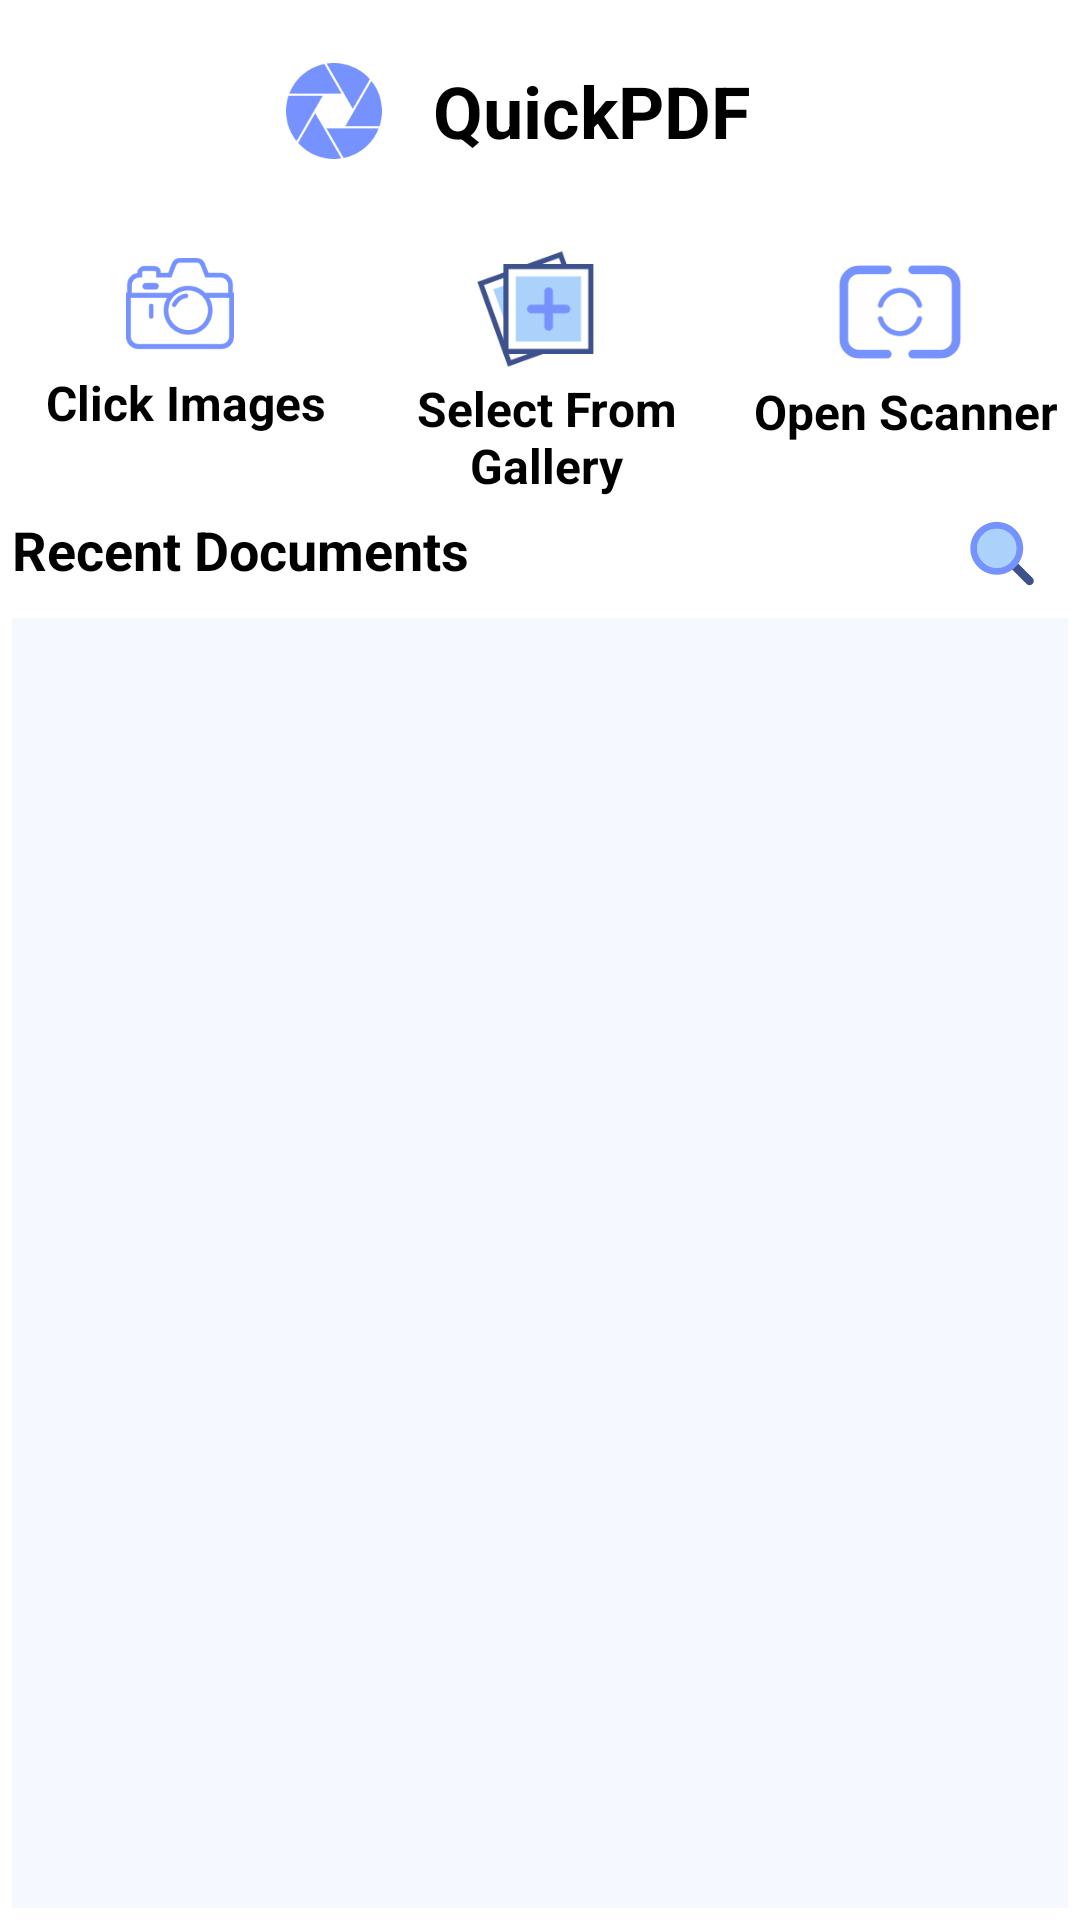

Point at icon controls on the screen. Image size 1080*1920, points as point (x, y).
camera: point (180, 303)
search: point (1002, 554)
